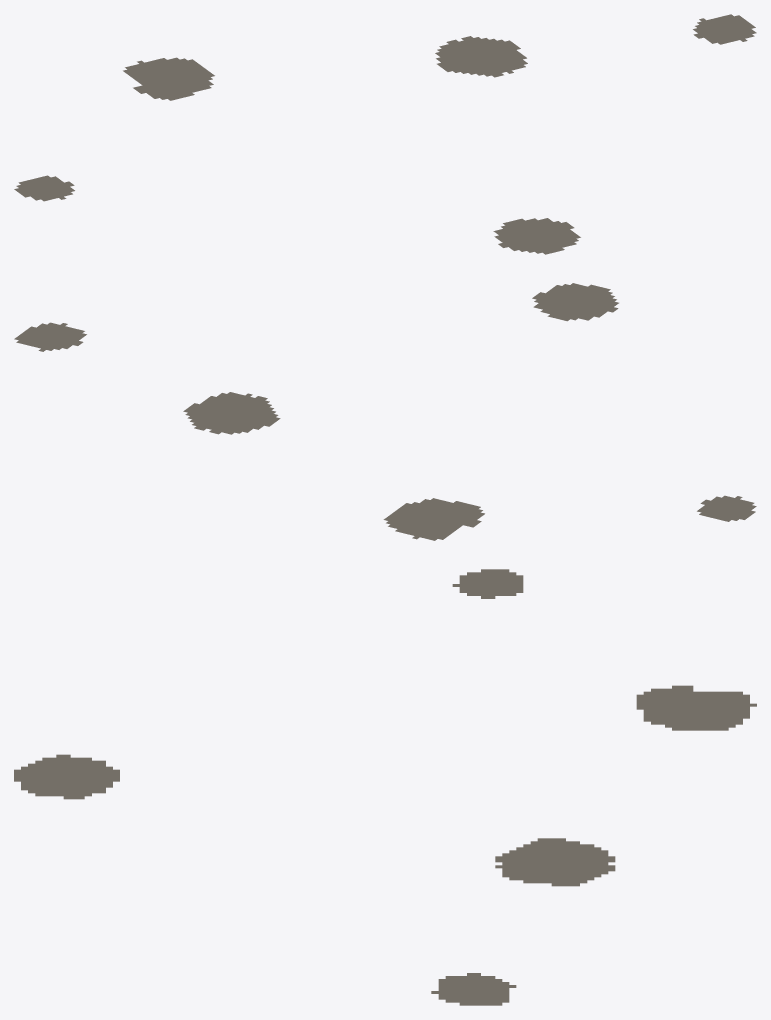
Rendered from Map-4-RocksArea.fbx.
3 views of the same model, one above another, from view 1: azimuth 30°, elevation 25°; view 2: azimuth 150°, elevation 25°; view 3: azimuth 270°, elevation 25° (orthographic). The views are drawn at different scales.
Parts seen in each view (by area): view 1: Map-4-RocksArea; view 2: Map-4-RocksArea; view 3: Map-4-RocksArea.
Boxes of the visible parts, left/top/right/bottom form: Map-4-RocksArea: left=14, top=14, right=756, bottom=254; Map-4-RocksArea: left=14, top=283, right=756, bottom=540; Map-4-RocksArea: left=14, top=569, right=756, bottom=1005.
Bounding box in the file's own units: 146 × 0 × 105.
